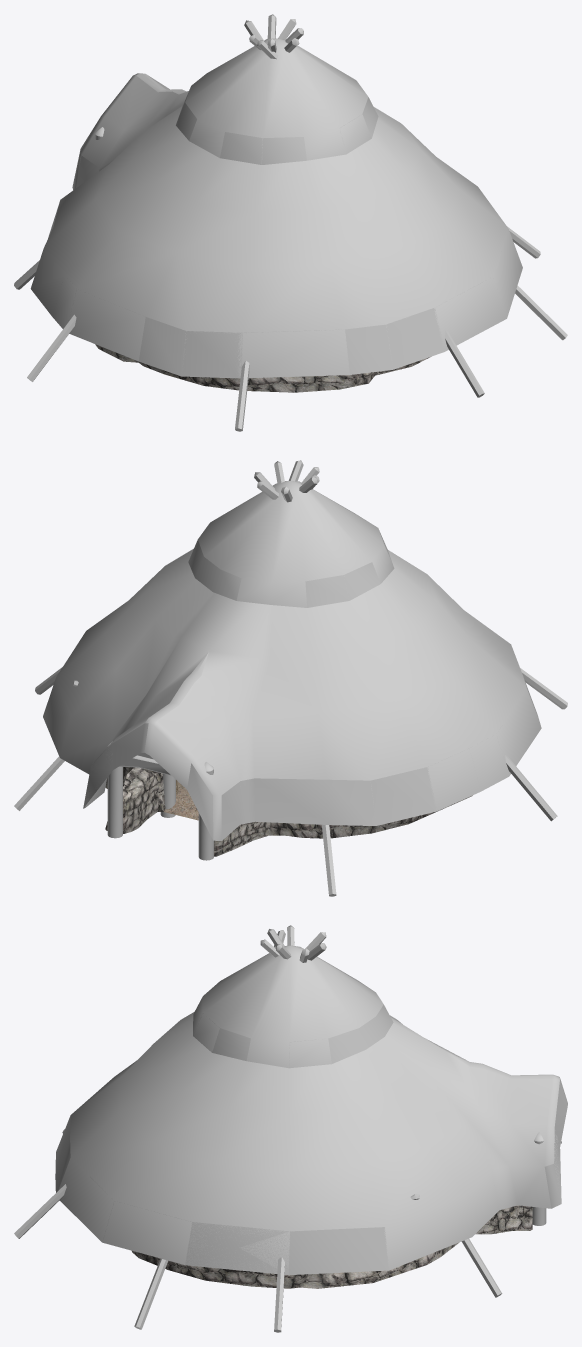
Rendered from RoundHut_1.fbx.
The picture shows the model from 3 angles, top to bottom: view 1: azimuth 30°, elevation 25°; view 2: azimuth 150°, elevation 25°; view 3: azimuth 270°, elevation 25°; orthographic projection. The views are drawn at different scales.
Visible parts, largest first — view 1: Alpha, Wood, Stone; view 2: Alpha, Wood, Stone, Ground; view 3: Alpha, Stone, Wood.
Part boxes in pixels (x1,y1,x2,y2): Alpha: (30,38,522,378); Wood: (14,14,567,431); Stone: (95,344,431,392); Alpha: (43,481,541,840); Wood: (14,460,567,896); Stone: (105,767,472,856); Ground: (164,781,198,820); Alpha: (55,945,567,1275); Stone: (132,1205,532,1288); Wood: (14,925,546,1332).
Size of the model in its own units: 2133 by 1213 by 2061.
